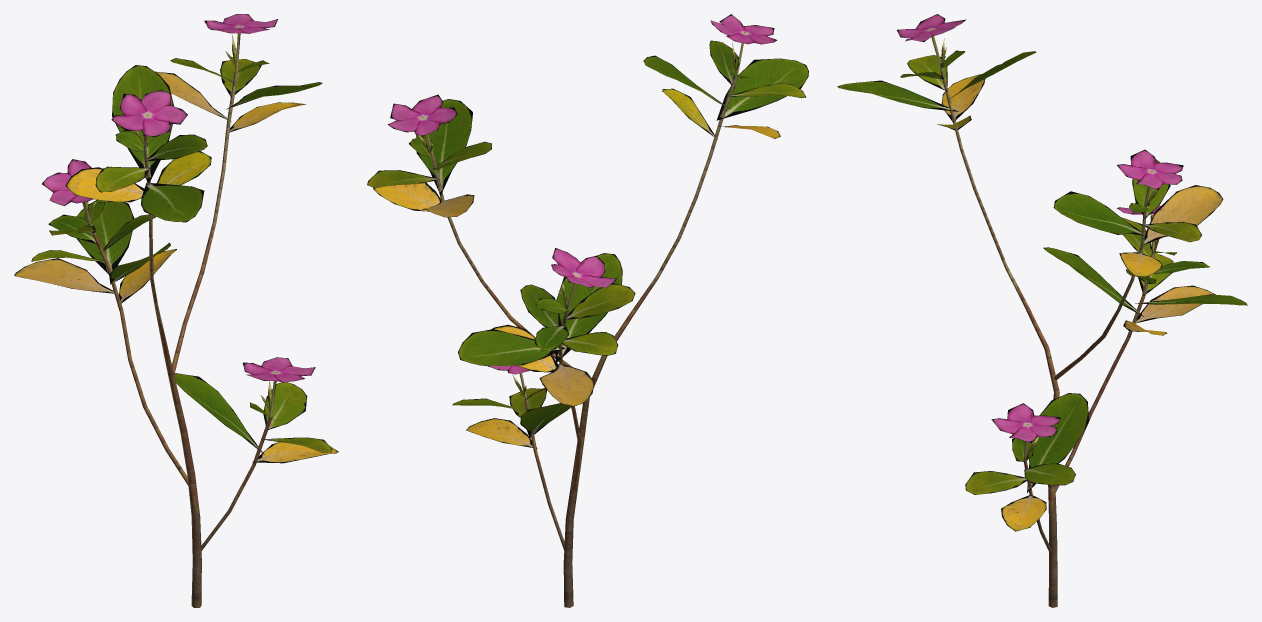
Rendered from periwinkle_c.glb.
3 renders of one model, left to right at view 1: azimuth 30°, elevation 25°; view 2: azimuth 150°, elevation 25°; view 3: azimuth 270°, elevation 25°, orthographic. The views are drawn at different scales.
Parts seen in each view (by area): view 1: periwinkle_c; view 2: periwinkle_c; view 3: periwinkle_c.
Boxes of the visible parts, x1=… form: periwinkle_c: x1=14, y1=14, x2=338, y2=607; periwinkle_c: x1=367, y1=14, x2=808, y2=607; periwinkle_c: x1=837, y1=14, x2=1247, y2=607.
Bounding box in the file's own units: 0.1558 × 0.2649 × 0.1842.
1 material, 1 textured.
